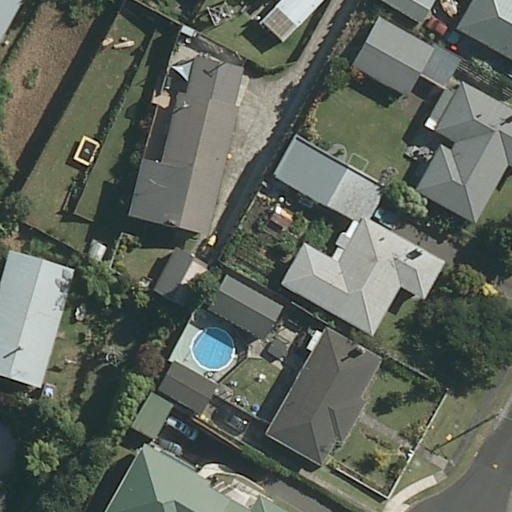DT: (491, 403, 507, 426)
